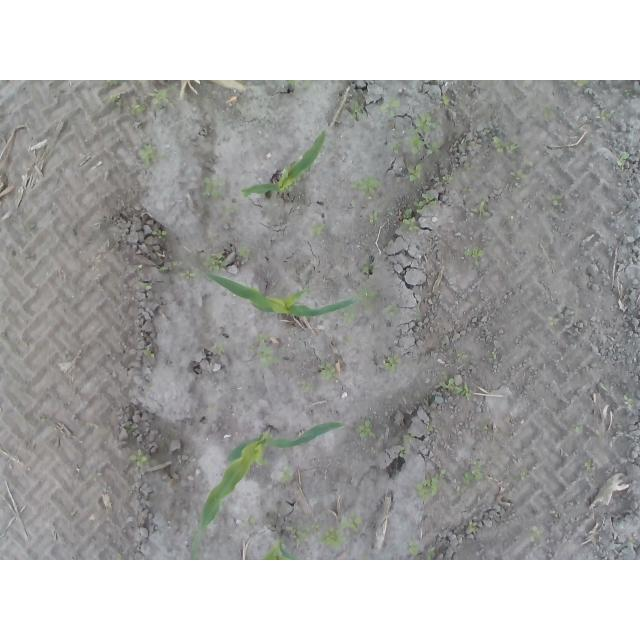Maize: (192, 421, 343, 560), (204, 271, 360, 317), (242, 130, 326, 198), (260, 532, 301, 560), (285, 82, 295, 95)
Weeds: (322, 514, 362, 551), (409, 111, 440, 158), (413, 476, 440, 504), (352, 176, 382, 201), (255, 334, 275, 371), (412, 189, 440, 215), (490, 135, 523, 157), (440, 380, 473, 400), (202, 176, 227, 200), (355, 288, 382, 306), (400, 206, 420, 230), (352, 92, 369, 120), (206, 255, 230, 274), (468, 199, 492, 217), (297, 521, 321, 539), (380, 100, 400, 121), (147, 87, 169, 104), (465, 465, 488, 481), (356, 418, 372, 439), (399, 433, 414, 455), (320, 363, 337, 382), (130, 447, 147, 466), (137, 144, 155, 161), (510, 168, 530, 183), (406, 162, 421, 182), (382, 303, 401, 318), (280, 465, 295, 483), (462, 246, 484, 258), (384, 356, 401, 371), (367, 211, 383, 226), (465, 518, 480, 534), (530, 525, 543, 543), (389, 140, 403, 156), (149, 228, 168, 239), (615, 151, 628, 167), (342, 312, 358, 325), (310, 222, 323, 238), (135, 281, 153, 292), (130, 103, 147, 114), (179, 270, 197, 280), (441, 173, 456, 185), (408, 543, 423, 555), (551, 192, 561, 206), (144, 349, 156, 360), (438, 95, 451, 105), (238, 247, 251, 257), (426, 548, 436, 561), (571, 81, 589, 88), (600, 111, 612, 121), (109, 95, 121, 105), (582, 459, 591, 471), (248, 515, 257, 527), (160, 264, 170, 274), (129, 424, 139, 433), (133, 264, 143, 273), (217, 343, 225, 354), (440, 468, 449, 477), (104, 80, 120, 85), (575, 426, 585, 434), (625, 89, 636, 96), (490, 351, 497, 362), (584, 88, 593, 96), (456, 352, 464, 359)
